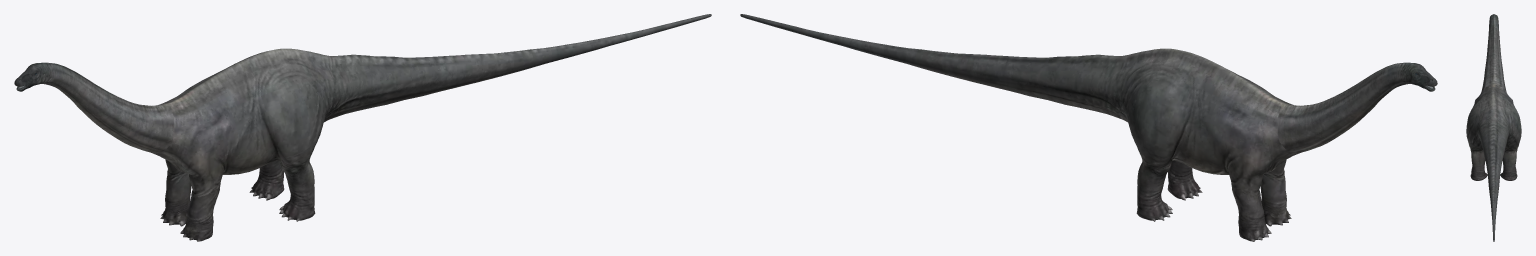
The model's file is nature-apatosaurus.glb.
The picture shows the model from 3 angles, left to right: view 1: azimuth 30°, elevation 25°; view 2: azimuth 150°, elevation 25°; view 3: azimuth 270°, elevation 25°; orthographic projection. The views are drawn at different scales.
Parts seen in each view (by area): view 1: Animal; view 2: Animal; view 3: Animal.
Part boxes in pixels (x1=…): Animal: x1=14, y1=14, x2=711, y2=241; Animal: x1=740, y1=14, x2=1437, y2=241; Animal: x1=1466, y1=14, x2=1521, y2=241.
Size of the model in its own units: 3.2 by 0.8825 by 0.4317.
Materials: 1 (1 with a texture image).
